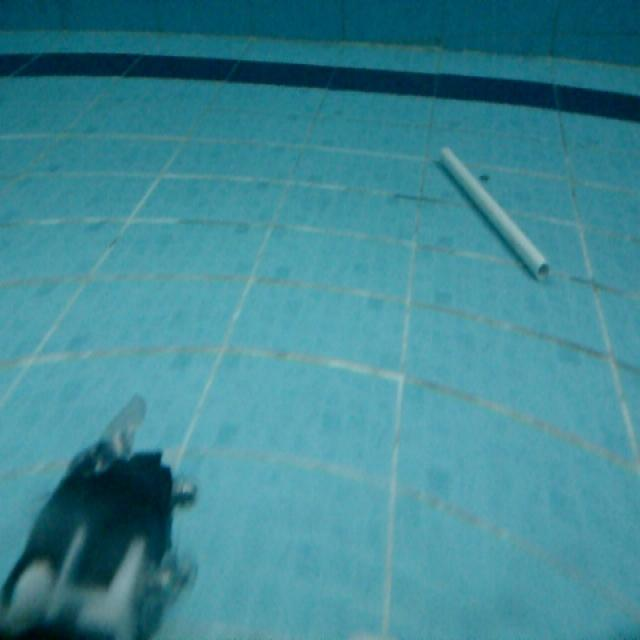Cube: (435, 139, 553, 284)
